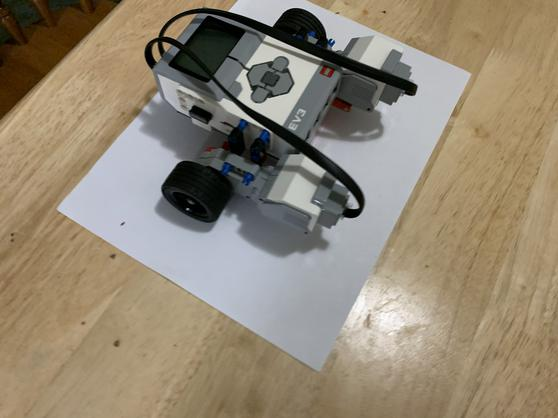robot: (96, 4, 433, 236)
